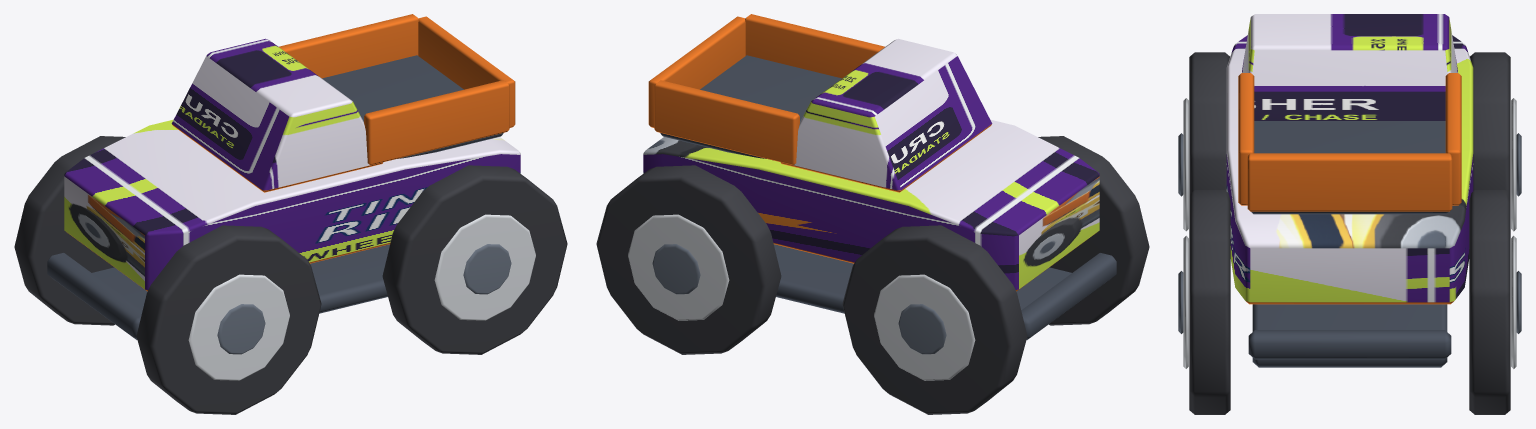
The picture shows the model from 3 angles, left to right: view 1: azimuth 30°, elevation 25°; view 2: azimuth 150°, elevation 25°; view 3: azimuth 270°, elevation 25°; orthographic projection. The views are drawn at different scales.
Visible parts, largest first — view 1: BW-01_connected_shell, BW-01_cabin, Tire, Tire.002, Tire.001, cargo side, Rim, Rim.002, cargo side.001, cargo floor, underbody, cargo tail (+3 smaller); view 2: BW-01_connected_shell, BW-01_cabin, Tire.001, Tire.003, Tire, cargo side.001, Rim.001, Rim.003, cargo side, cargo floor, underbody, cargo tail (+3 smaller); view 3: BW-01_connected_shell, BW-01_cabin, cargo tail, Tire.002, Tire.003, cargo floor, underbody, rear bumper, Tire, Tire.001, cargo side, cargo side.001 (+8 smaller).
Part boxes in pixels (bbox=[...]): BW-01_connected_shell: bbox=[64, 119, 520, 291]; BW-01_cabin: bbox=[171, 38, 382, 192]; Tire: bbox=[136, 225, 321, 414]; Tire.002: bbox=[382, 165, 567, 354]; Tire.001: bbox=[14, 136, 125, 325]; cargo side: bbox=[364, 80, 509, 165]; Rim: bbox=[188, 274, 289, 380]; Rim.002: bbox=[434, 214, 535, 320]; cargo side.001: bbox=[279, 14, 418, 78]; cargo floor: bbox=[322, 55, 503, 158]; underbody: bbox=[92, 244, 389, 313]; cargo tail: bbox=[418, 16, 515, 127]; BW-01_connected_shell: bbox=[643, 119, 1099, 291]; BW-01_cabin: bbox=[781, 38, 992, 192]; Tire.001: bbox=[842, 225, 1027, 414]; Tire.003: bbox=[596, 165, 781, 354]; Tire: bbox=[1038, 136, 1149, 325]; cargo side.001: bbox=[654, 80, 799, 165]; Rim.001: bbox=[874, 274, 975, 380]; Rim.003: bbox=[628, 214, 729, 320]; cargo side: bbox=[745, 14, 884, 78]; cargo floor: bbox=[660, 55, 841, 158]; underbody: bbox=[774, 244, 1071, 313]; cargo tail: bbox=[648, 16, 745, 127]; BW-01_connected_shell: bbox=[1226, 35, 1473, 304]; BW-01_cabin: bbox=[1242, 14, 1457, 120]; cargo tail: bbox=[1247, 153, 1452, 211]; Tire.002: bbox=[1189, 190, 1230, 414]; Tire.003: bbox=[1469, 190, 1510, 414]; cargo floor: bbox=[1251, 121, 1448, 214]; underbody: bbox=[1252, 304, 1447, 367]; rear bumper: bbox=[1248, 330, 1451, 359]; Tire: bbox=[1189, 52, 1229, 194]; Tire.001: bbox=[1470, 52, 1510, 194]; cargo side: bbox=[1238, 73, 1254, 205]; cargo side.001: bbox=[1445, 73, 1461, 205].
Size of the model in its own units: 350 by 210 by 217.
